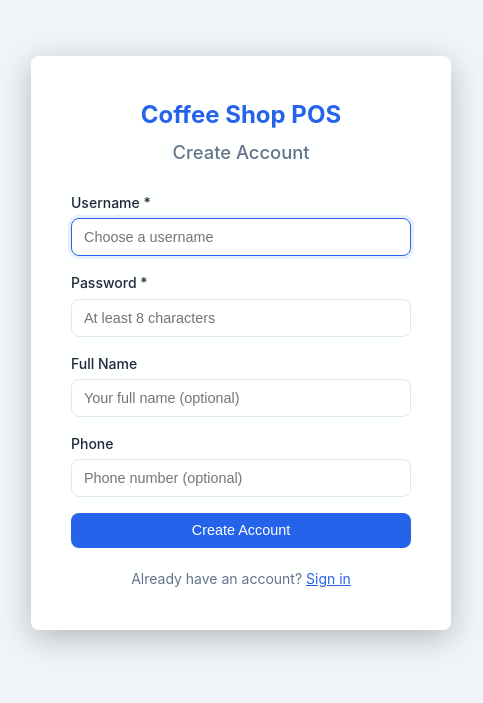
RegisterPage › validates password minimum length (8 chars) - shows error
Type "testuser" into the field labelled "Username *".
click(241, 237); type("testuser")  # box 71,218 -> 411,256
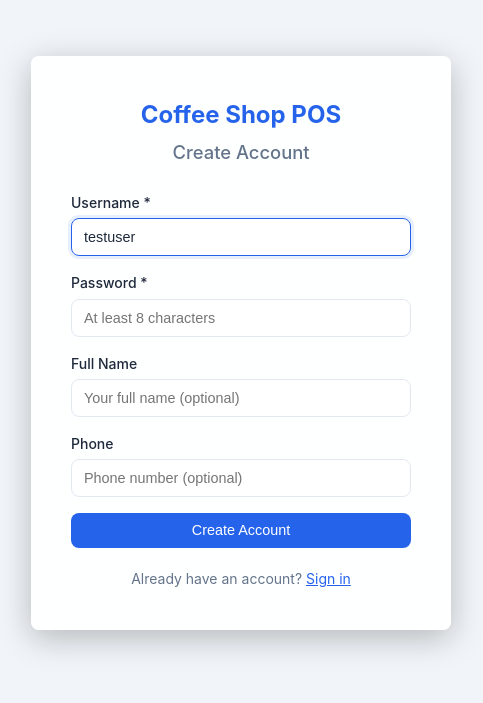
Type "short" into the password field labelled "Password *".
click(241, 318); type("short")  # box 71,298 -> 411,336
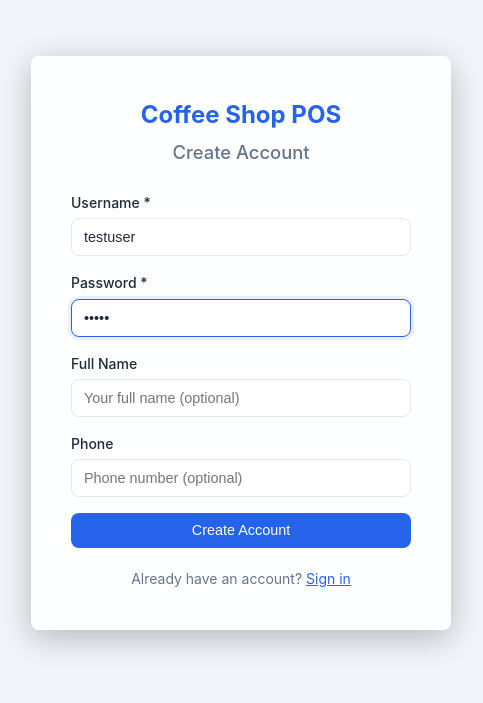
Click the button "Create Account".
click(241, 530)  # box 71,513 -> 411,548
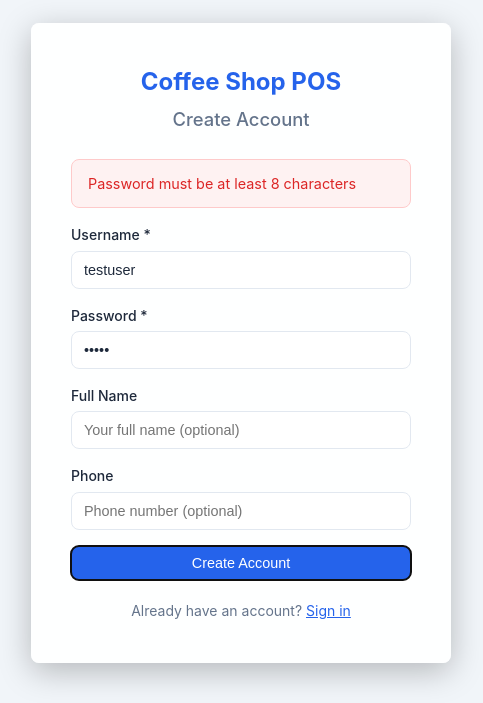
Expected: the text "Password must be at least 8 characters" is shown, 71,159 -> 411,208
